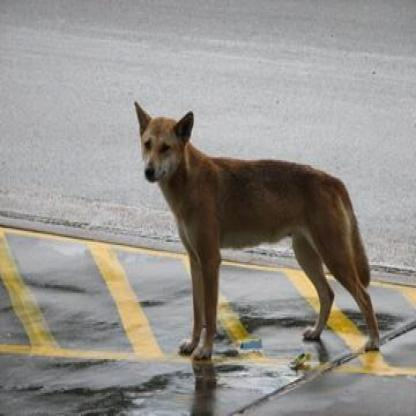dingo: (132, 98, 380, 360)
